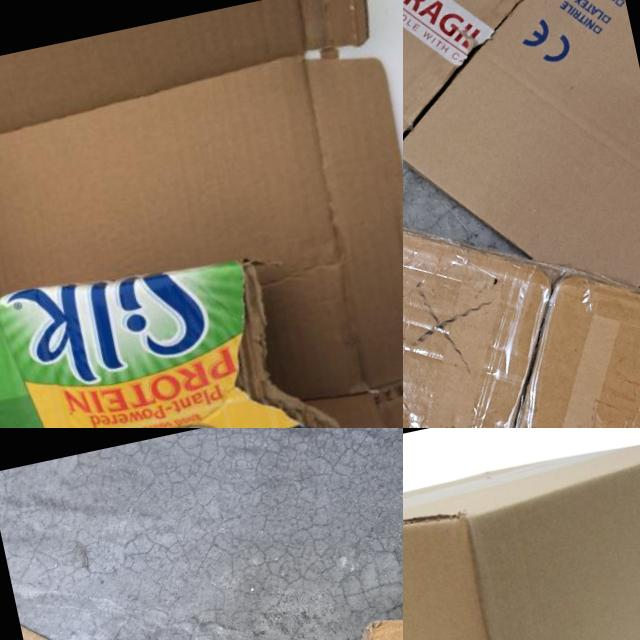garrafa plástica: (403, 428, 640, 640)
papelão: (0, 0, 403, 428), (403, 0, 640, 366), (403, 174, 640, 428), (19, 560, 394, 640)
